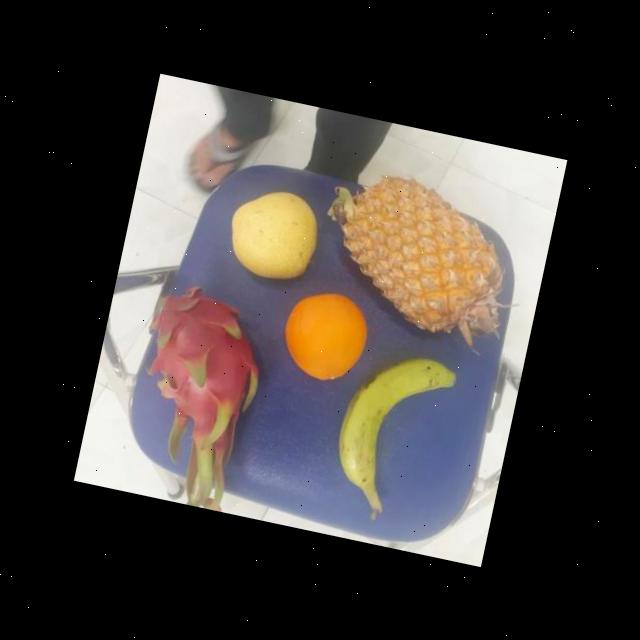banana: (326, 343, 461, 520)
orange: (274, 282, 378, 389)
pear: (215, 182, 328, 290)
pineapple: (317, 168, 528, 350)
pitaya: (119, 278, 281, 482)
